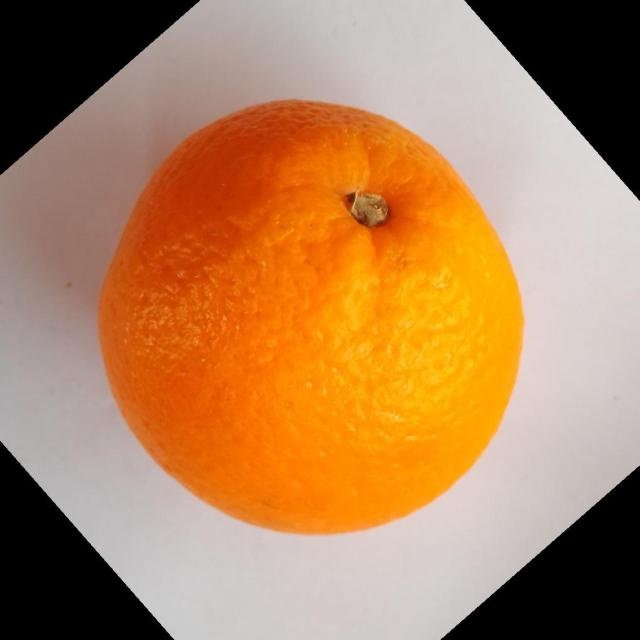agrume: (95, 97, 525, 536)
